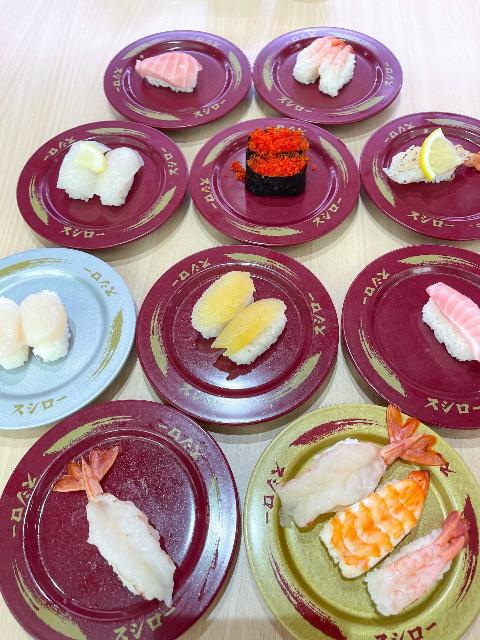jangold: (257, 459, 480, 640)
janred: (44, 422, 238, 635), (148, 265, 316, 404), (8, 122, 200, 239), (354, 246, 480, 416), (200, 122, 363, 231), (107, 15, 248, 126), (356, 115, 480, 240), (253, 25, 396, 107)
janwhite: (9, 251, 130, 400)
